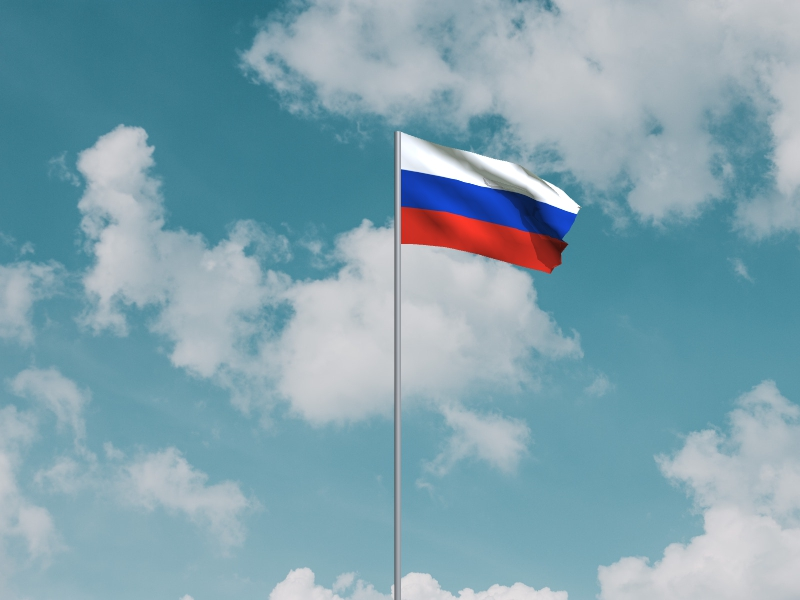ru: (401, 133, 583, 275)
